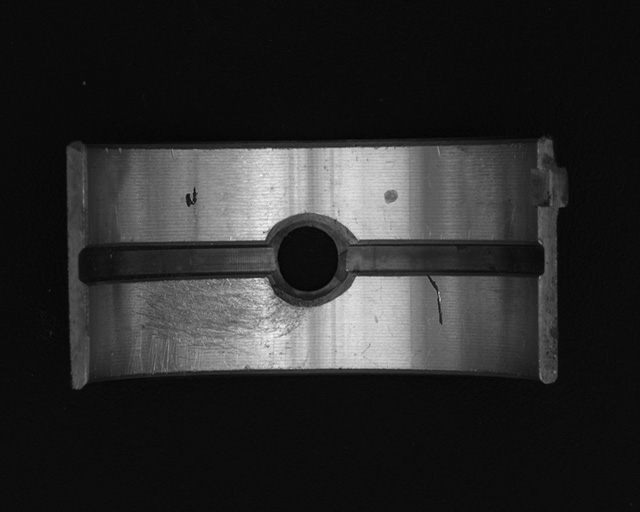blot: (185, 187, 198, 208)
bruise: (384, 188, 398, 204)
gap: (78, 241, 277, 283), (344, 238, 546, 279)
hole: (267, 214, 353, 308)
nick: (428, 273, 444, 325)
scratch: (129, 276, 310, 375)
